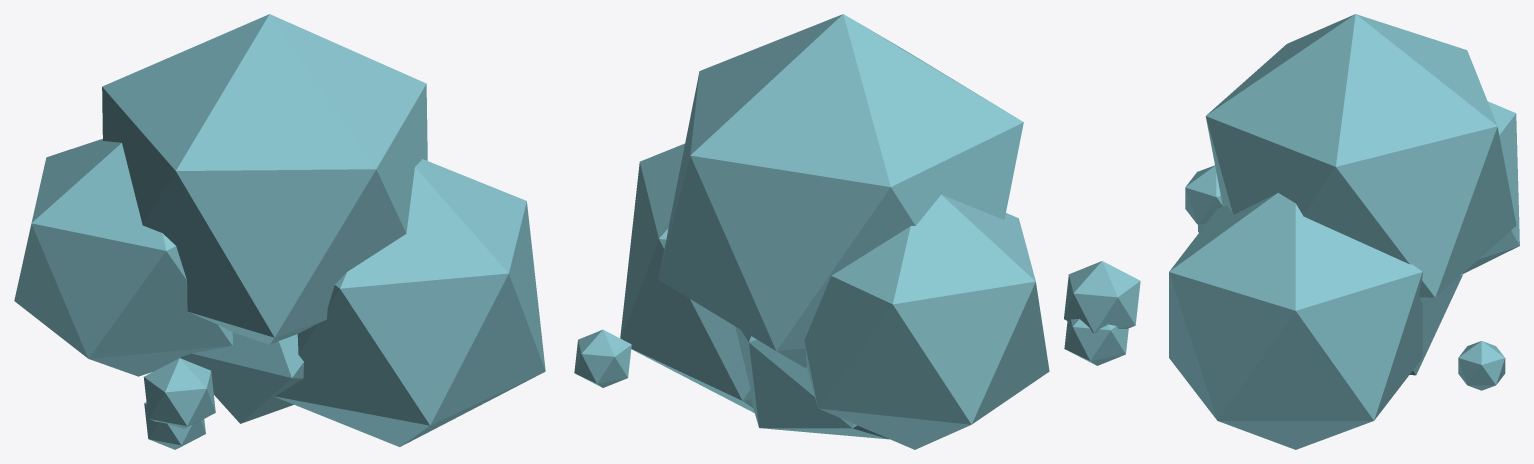
The model's file is Doria.fbx.
3 renders of one model, left to right at view 1: azimuth 30°, elevation 25°; view 2: azimuth 150°, elevation 25°; view 3: azimuth 270°, elevation 25°, orthographic. The views are drawn at different scales.
Parts seen in each view (by area): view 1: Icosphere.001; view 2: Icosphere.001; view 3: Icosphere.001.
Boxes of the visible parts, box(x1,y1,x2,y2) form: Icosphere.001: box(14, 14, 545, 449); Icosphere.001: box(574, 14, 1140, 449); Icosphere.001: box(1169, 14, 1519, 449).
Size of the model in its own units: 458 by 436 by 353.
